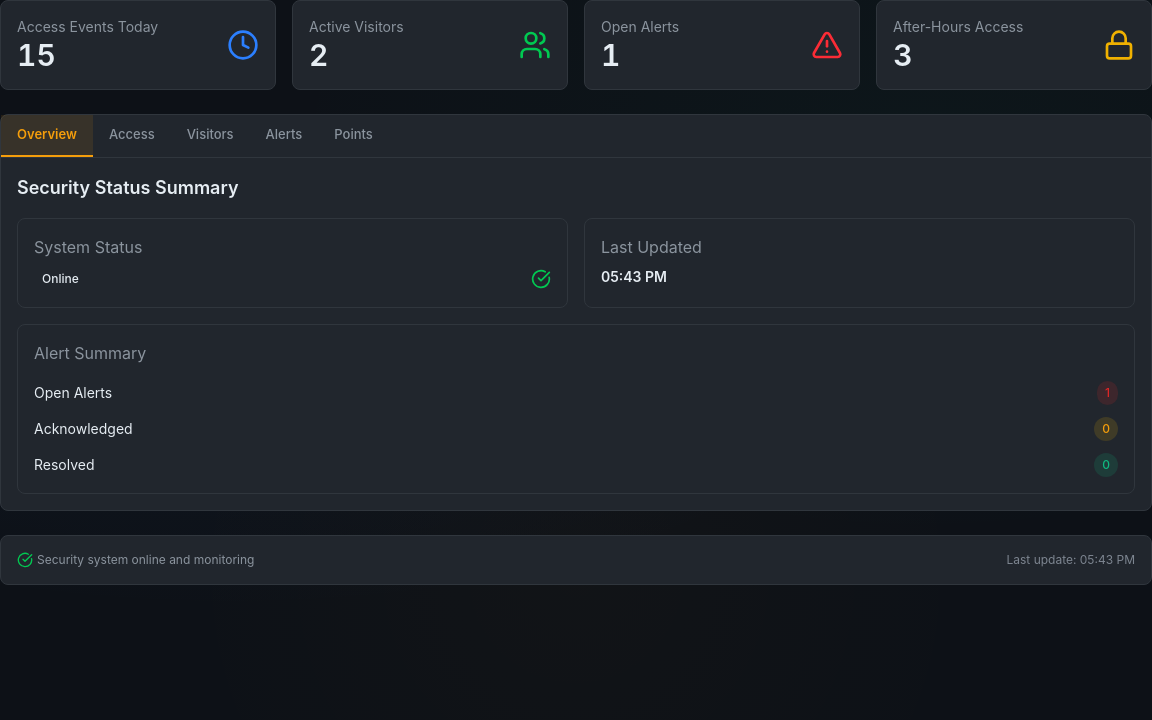
Scenario: SecurityPanel › renders Alerts tab with severity badges
# Click Alerts tab
Click the tab "Alerts" at (284, 136), box [250,115,318,156]
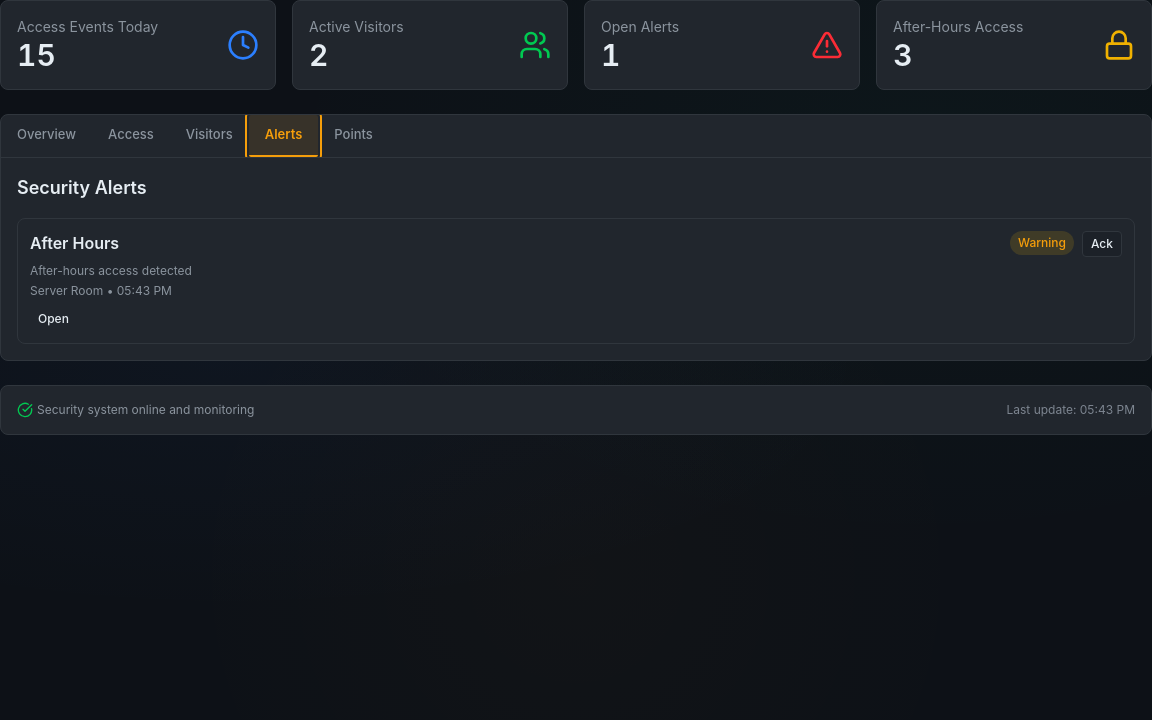
Result: the text "after hours" is shown at [30,230,119,254]
Result: the text "warning" is shown at [1010,230,1074,254]
